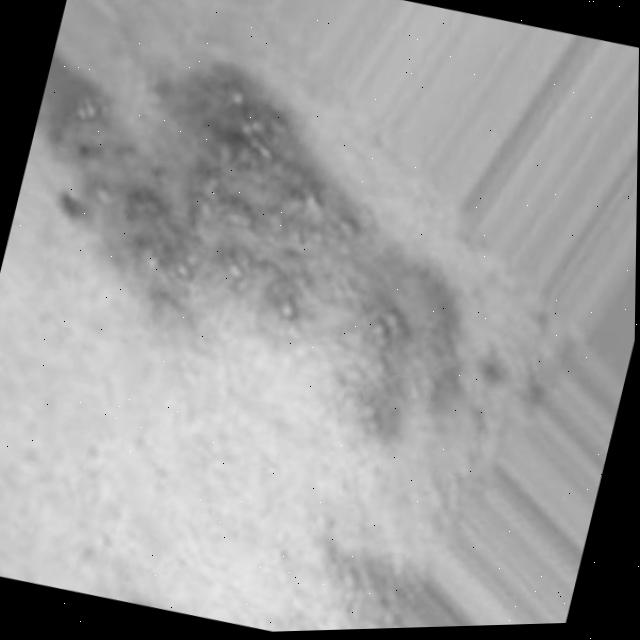Shingles: (0, 28, 525, 430)
